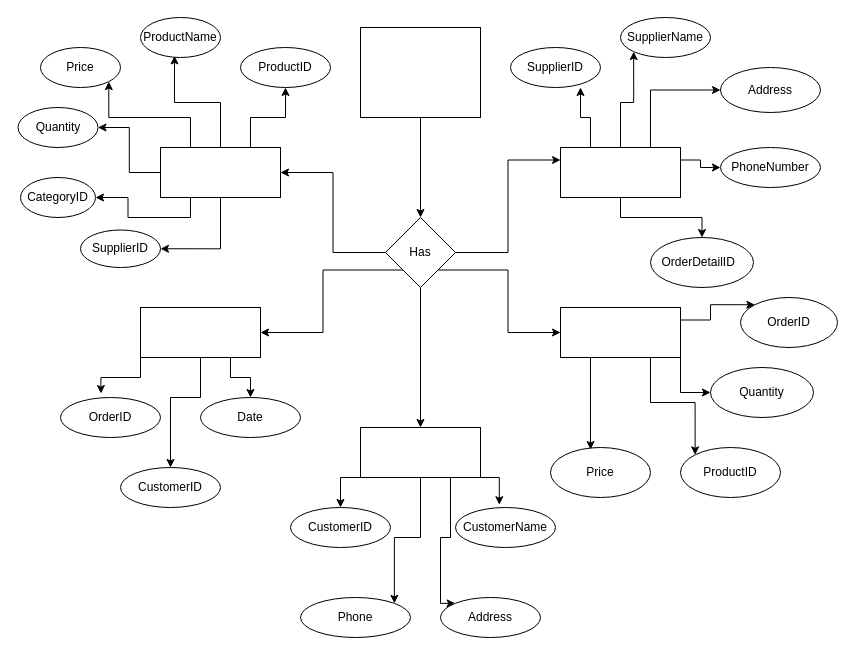
Image size: 855x655. Some labels were removed from this diagram. The box of each missing label's shape, as (x1, y1, x2, y2) in pixels:
Customer: (360, 426, 480, 478)
Inventory: (360, 26, 480, 118)
Order: (140, 306, 260, 358)
Order Details: (560, 306, 680, 358)
Product: (160, 146, 280, 198)
Supplier: (560, 146, 680, 198)
